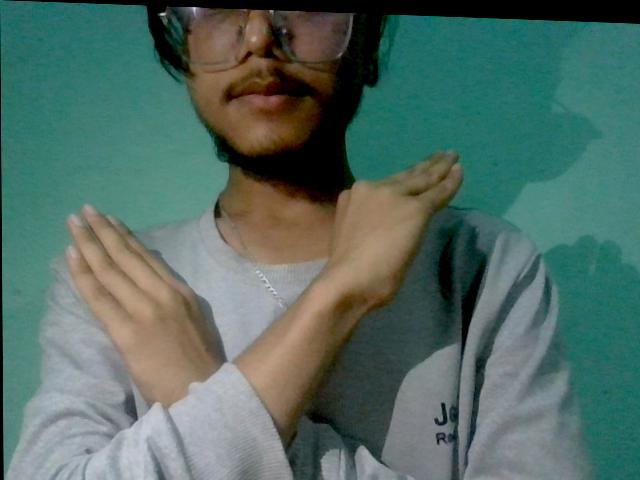dont: (48, 129, 476, 450)
